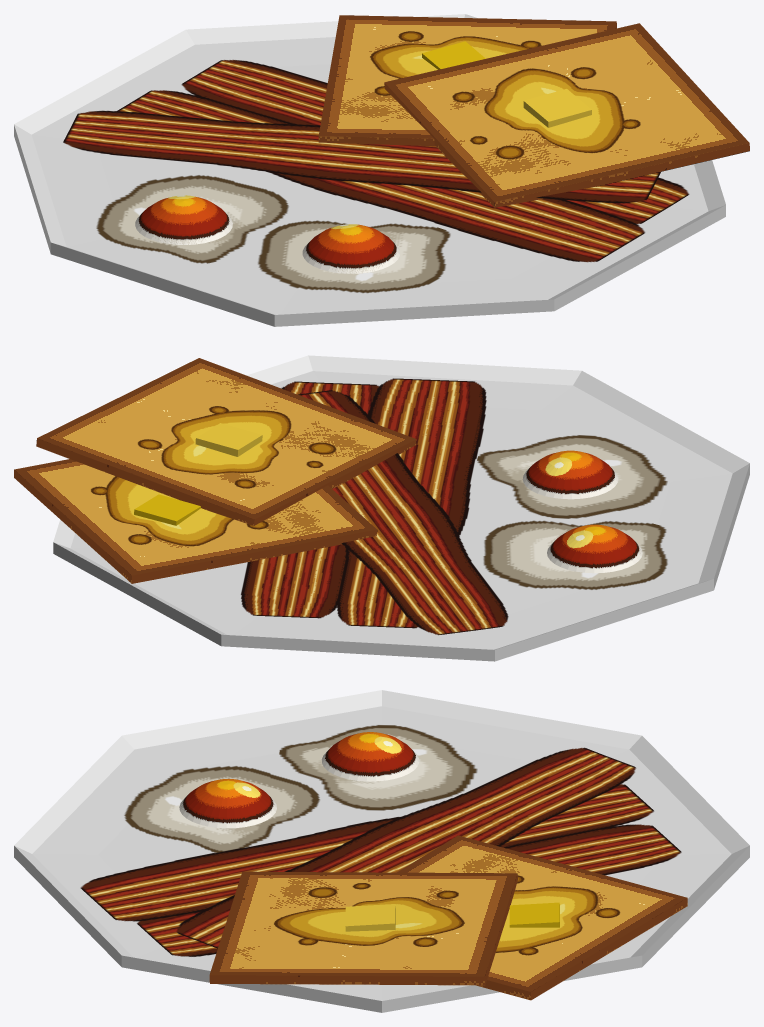
The model's file is Anime_Breakfast.glb.
The picture shows the model from 3 angles, top to bottom: view 1: azimuth 30°, elevation 25°; view 2: azimuth 150°, elevation 25°; view 3: azimuth 270°, elevation 25°; orthographic projection. The views are drawn at different scales.
Visible parts, largest first — view 1: Cylinder, Cube.001, Circle, Plane.002, Plane, Cube, Plane.001, Plane.003, Plane.004, Cube.002, Cube.003; view 2: Cylinder, Cube.001, Circle, Plane.002, Cube, Plane, Plane.001, Plane.003, Plane.004, Cube.002, Cube.003; view 3: Cylinder, Cube.001, Circle, Plane.002, Plane, Cube, Plane.001, Plane.003, Plane.004, Cube.002, Cube.003.
Part boxes in pixels (x1,y1,x2,y2): Cylinder: (14, 14, 725, 326); Cube.001: (384, 23, 749, 207); Circle: (96, 175, 450, 292); Plane.002: (63, 110, 660, 203); Plane: (117, 90, 645, 262); Cube: (318, 15, 616, 146); Plane.001: (181, 60, 689, 223); Plane.003: (452, 67, 640, 159); Plane.004: (370, 31, 541, 95); Cube.002: (523, 89, 591, 127); Cube.003: (422, 41, 485, 69); Cylinder: (53, 355, 749, 661); Cube.001: (36, 358, 416, 525); Circle: (477, 435, 667, 589); Plane.002: (298, 390, 508, 635); Cube: (14, 459, 377, 583); Plane: (336, 378, 486, 628); Plane.001: (241, 381, 378, 618); Plane.003: (138, 406, 336, 488); Plane.004: (91, 476, 268, 546); Cube.002: (195, 423, 262, 456); Cube.003: (134, 494, 200, 525); Cylinder: (14, 690, 749, 1012); Cube.001: (209, 871, 517, 985); Circle: (124, 725, 477, 852); Plane.002: (176, 747, 635, 948); Plane: (80, 784, 653, 921); Cube: (397, 835, 687, 1000); Plane.001: (137, 824, 681, 956); Plane.003: (274, 883, 464, 946); Plane.004: (495, 875, 620, 955); Cube.002: (345, 904, 395, 931); Cube.003: (509, 902, 559, 927).
Size of the model in its own units: 2.01 by 0.112 by 2.
9 materials, 7 textured.
